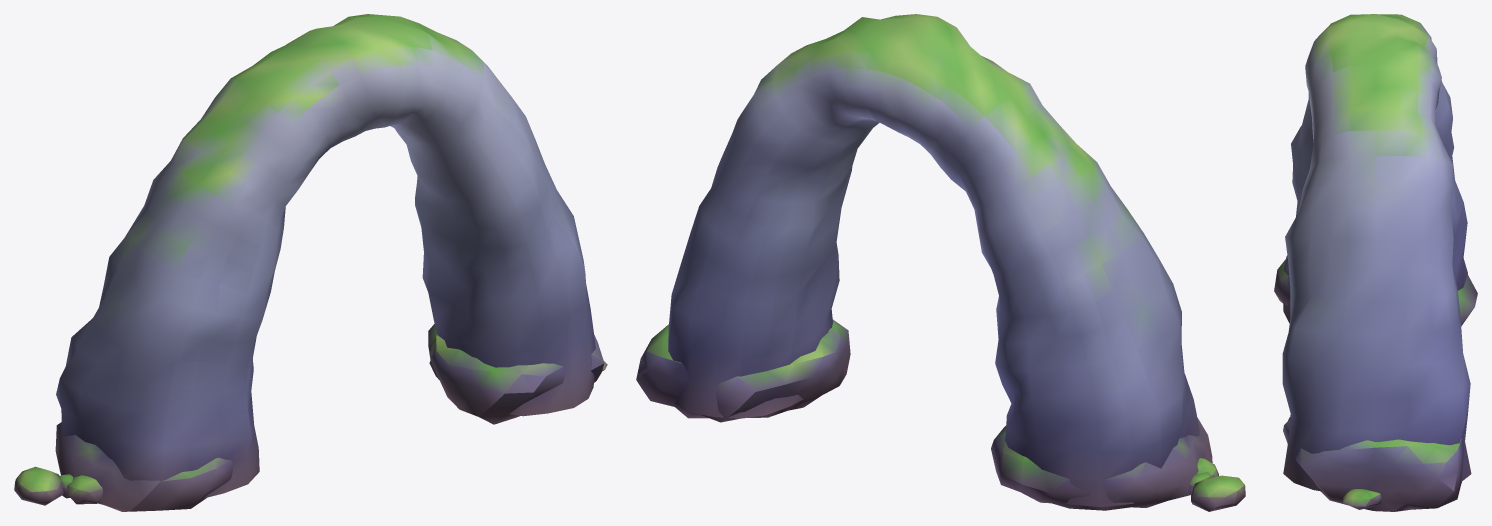
File: verdant_arch_natural_b.glb
3 renders of one model, left to right at view 1: azimuth 30°, elevation 25°; view 2: azimuth 150°, elevation 25°; view 3: azimuth 270°, elevation 25°, orthographic. The views are drawn at different scales.
Visible parts, largest first — view 1: verdant_arch_natural_b; view 2: verdant_arch_natural_b; view 3: verdant_arch_natural_b.
Boxes of the visible parts, x1,y1,x2,y2 form: verdant_arch_natural_b: (14, 14, 607, 511); verdant_arch_natural_b: (636, 14, 1245, 511); verdant_arch_natural_b: (1274, 14, 1477, 511).
Bounding box in the file's own units: 20.88 × 13.97 × 6.74.
